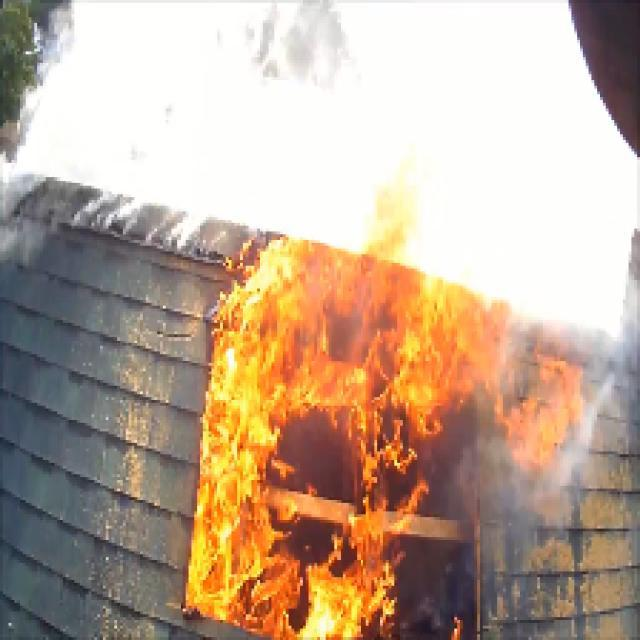Fire: (224, 322, 411, 630)
